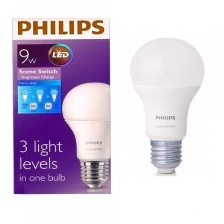book: (9, 11, 114, 198)
light_bulb: (125, 32, 207, 180)
